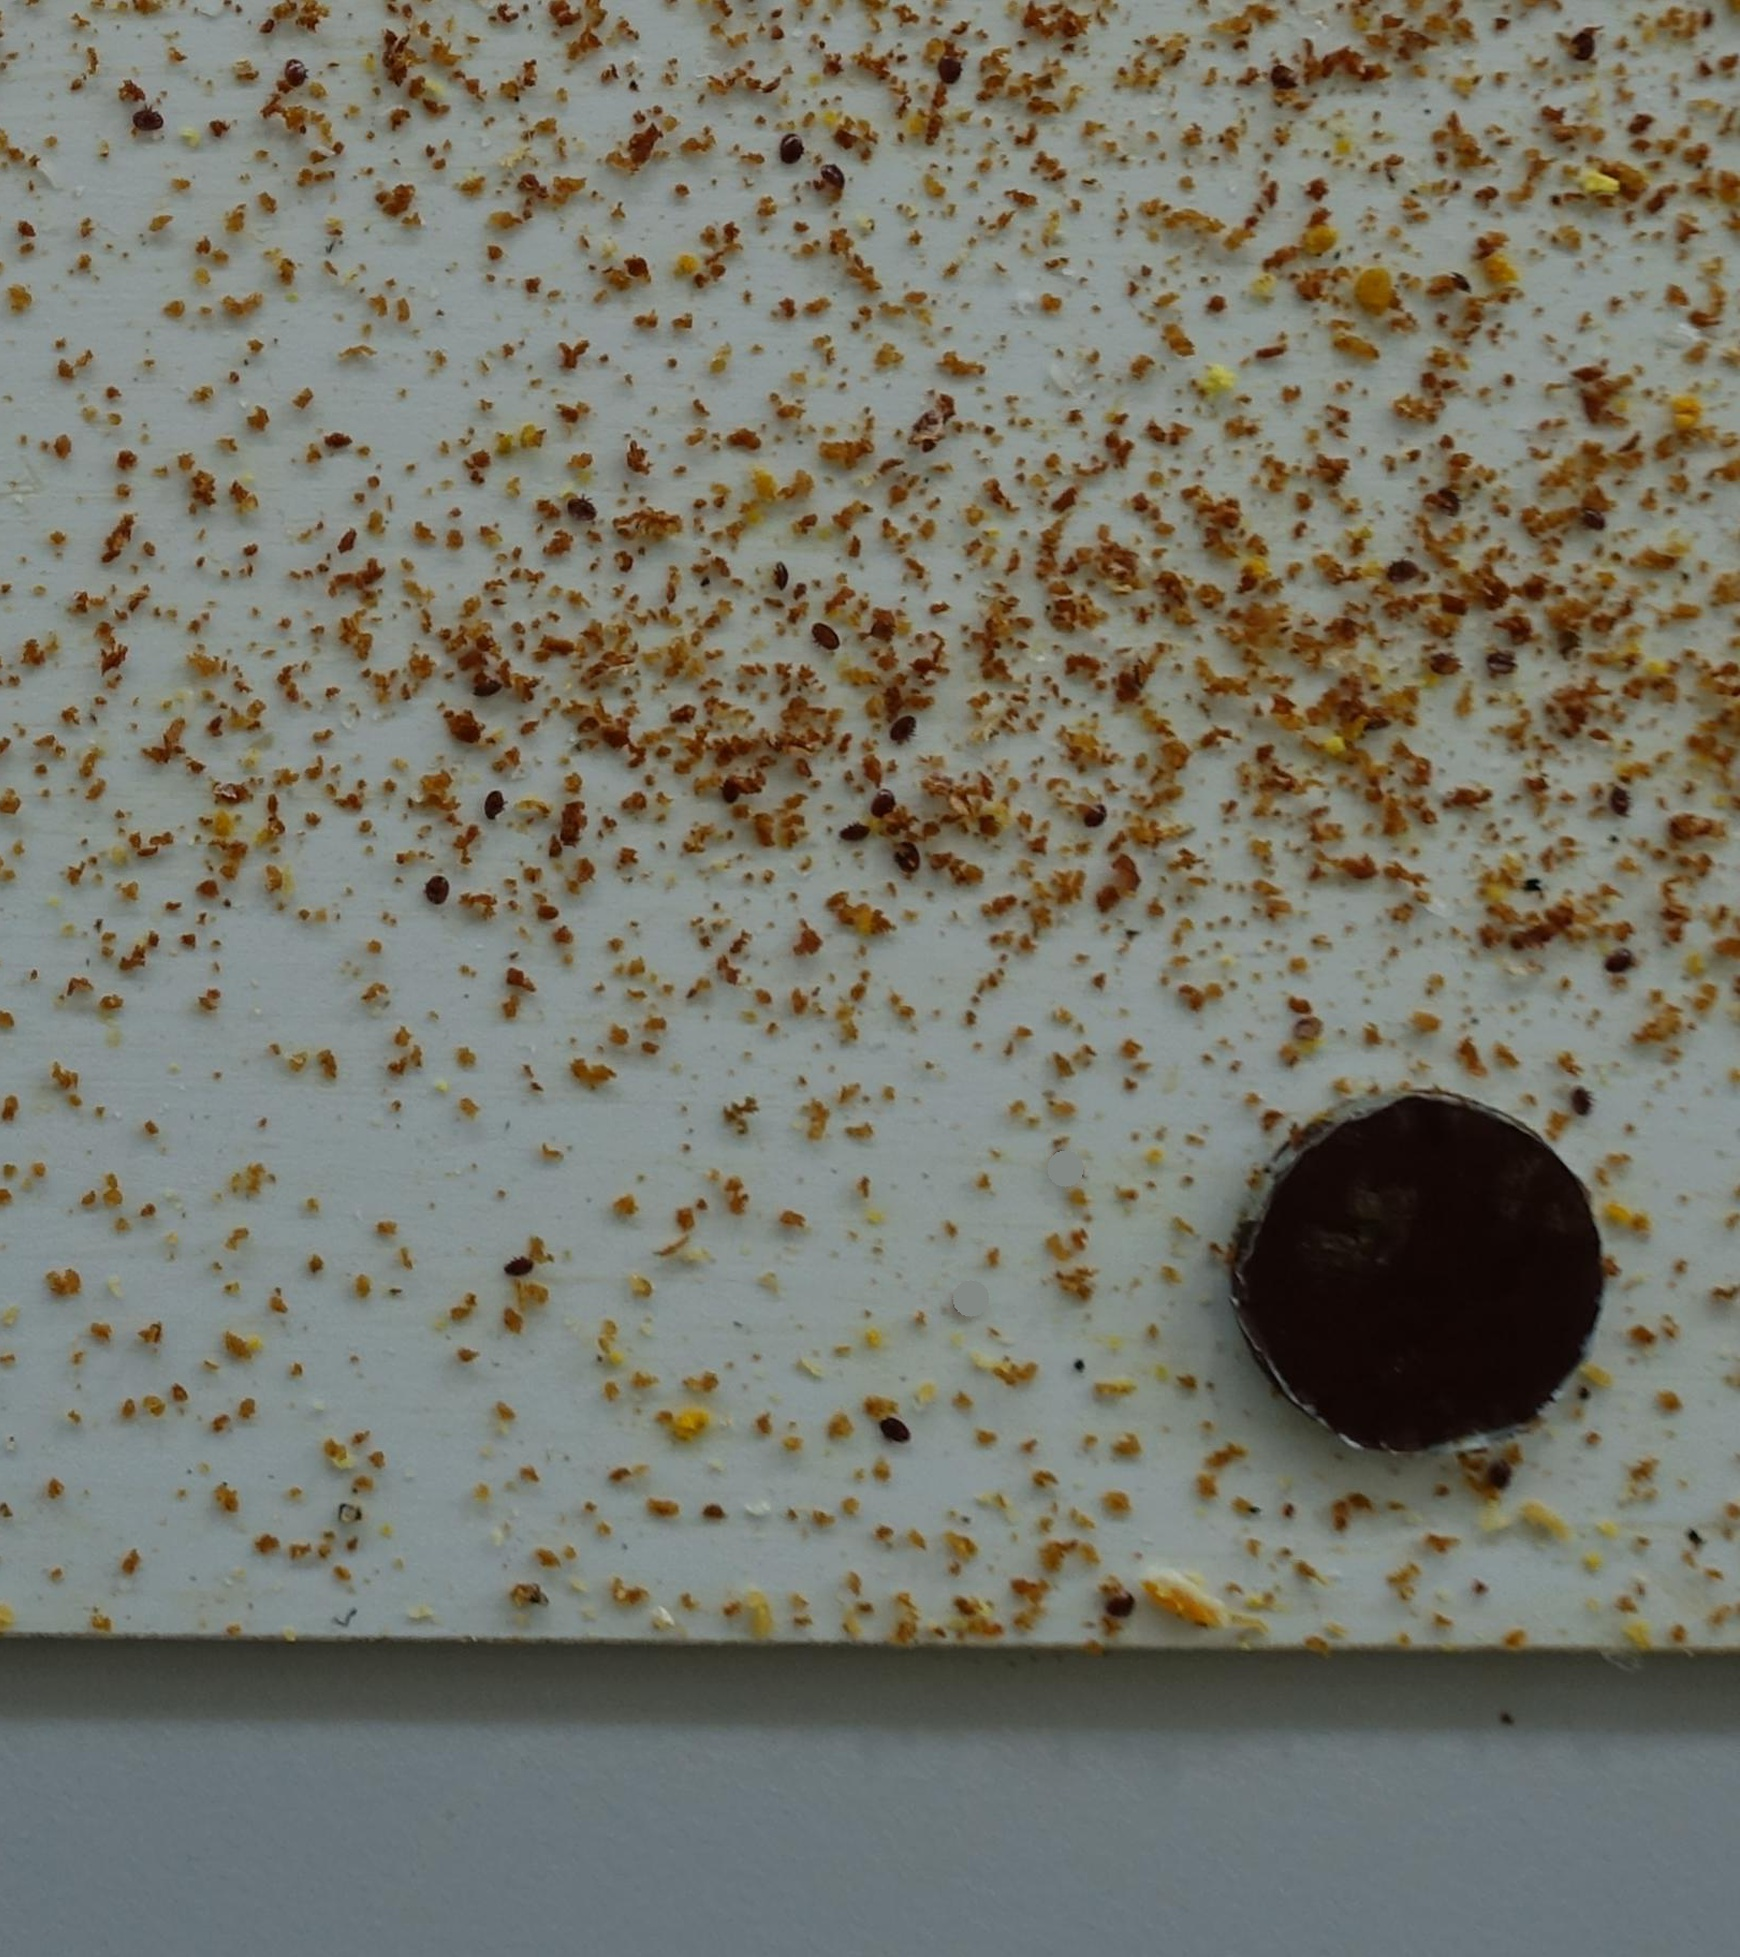Varroa: (1574, 499, 1614, 539), (763, 559, 793, 590), (1428, 489, 1460, 517), (1601, 947, 1631, 976), (721, 769, 749, 800), (1604, 788, 1634, 816), (841, 808, 870, 837), (1382, 554, 1412, 581), (1565, 1089, 1592, 1119), (475, 790, 504, 816), (887, 716, 914, 744), (1261, 62, 1290, 89), (816, 165, 845, 192), (778, 138, 804, 165), (1565, 30, 1592, 57), (862, 791, 887, 820), (1100, 1591, 1129, 1616), (877, 1416, 904, 1441), (1424, 652, 1451, 677), (927, 60, 952, 86), (1072, 806, 1097, 832), (558, 496, 584, 519), (139, 99, 163, 124), (507, 1257, 527, 1280), (428, 882, 447, 907), (894, 847, 915, 865), (282, 64, 302, 82), (816, 625, 835, 642)
